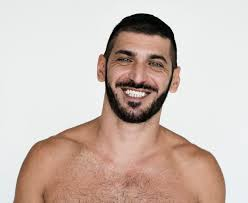middle_eastern_male: (112, 23, 172, 124)
